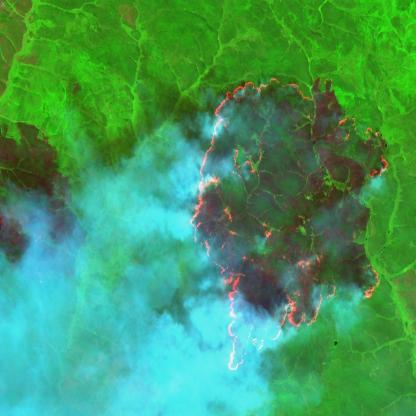fire: (181, 65, 395, 377)
